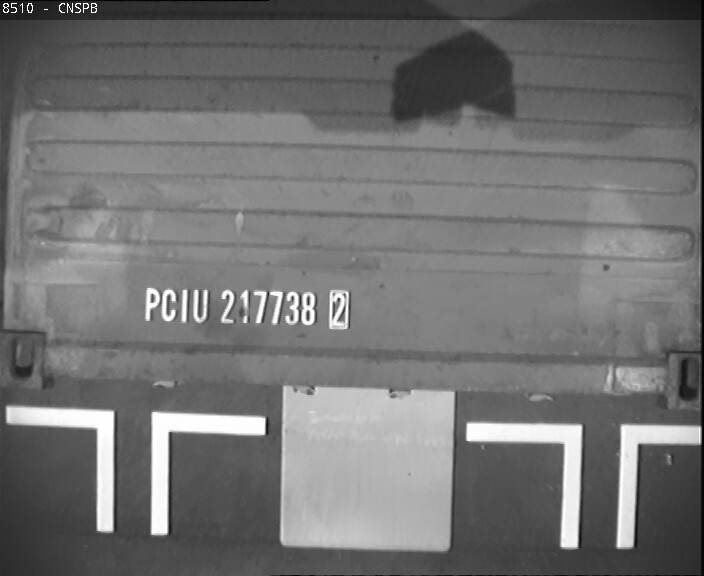groundmarker_1: (5, 403, 266, 534), (466, 422, 703, 547)
